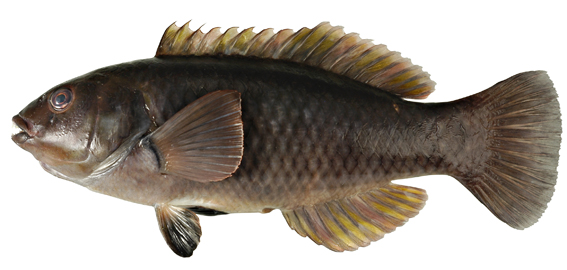fish: (11, 17, 563, 257)
